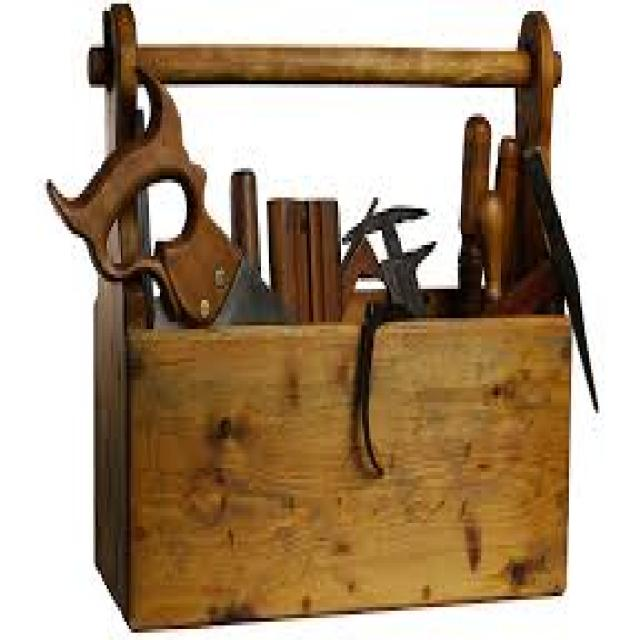tool_box: (44, 7, 591, 633)
